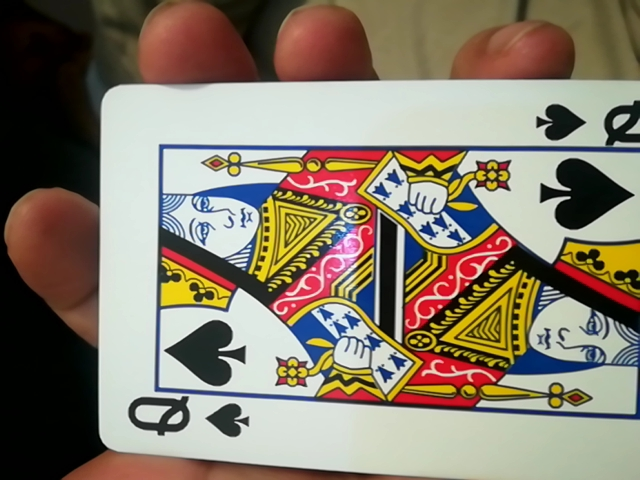ht q: (84, 76, 636, 479)
